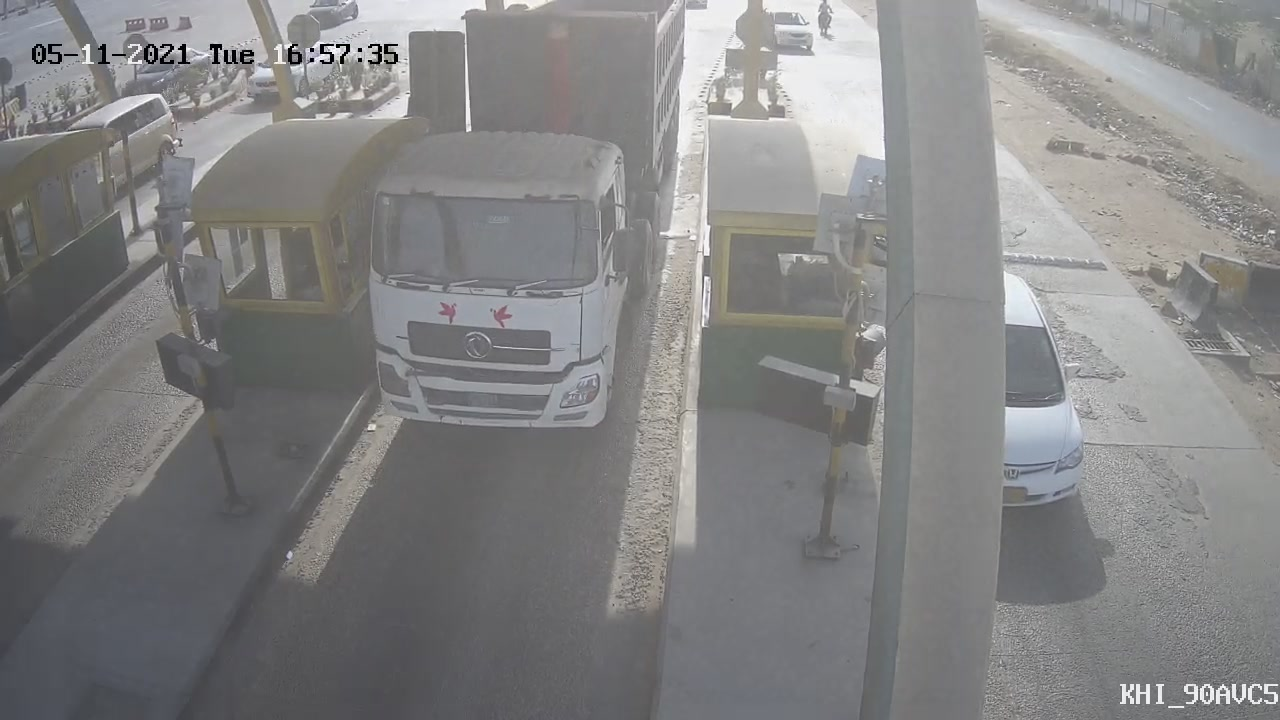F6: (313, 1, 703, 451)
